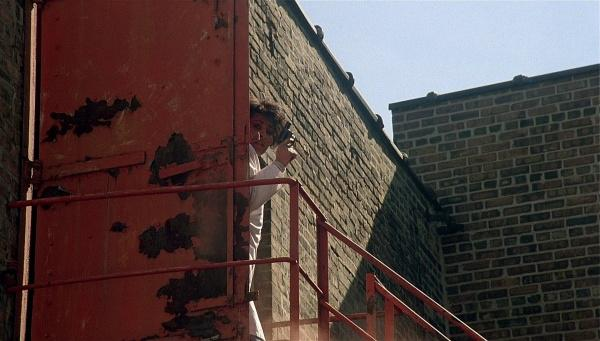Gun: (278, 122, 296, 144)
